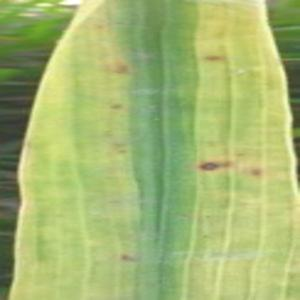0 BrownSpot: (110, 249, 145, 268), (198, 49, 226, 66), (197, 157, 222, 175), (109, 62, 133, 78), (248, 165, 264, 179), (106, 100, 124, 112), (219, 157, 235, 170), (204, 139, 221, 151), (132, 174, 148, 185), (102, 128, 115, 141), (52, 210, 68, 220), (107, 198, 124, 205), (282, 204, 295, 213), (233, 151, 247, 159), (263, 211, 275, 220), (222, 197, 233, 204), (201, 233, 211, 240), (96, 24, 105, 31), (203, 214, 213, 220), (118, 149, 128, 154)
